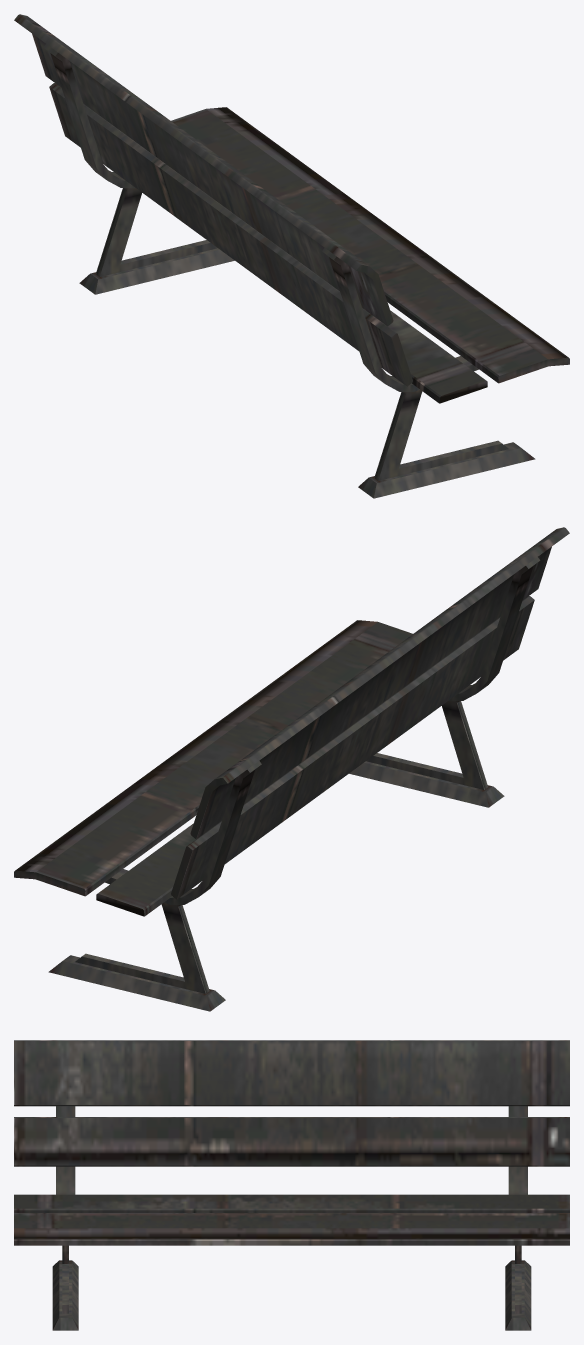
File: Bench.fbx
The picture shows the model from 3 angles, top to bottom: view 1: azimuth 30°, elevation 25°; view 2: azimuth 150°, elevation 25°; view 3: azimuth 270°, elevation 25°; orthographic projection. The views are drawn at different scales.
Parts seen in each view (by area): view 1: Bench.001; view 2: Bench.001; view 3: Bench.001.
Boxes of the visible parts, x1=… form: Bench.001: x1=14, y1=14, x2=569, y2=498; Bench.001: x1=14, y1=527, x2=569, y2=1011; Bench.001: x1=14, y1=1040, x2=569, y2=1330.
Bounding box in the file's own units: 0.6328 × 0.7357 × 1.75.
1 material, 1 textured.
